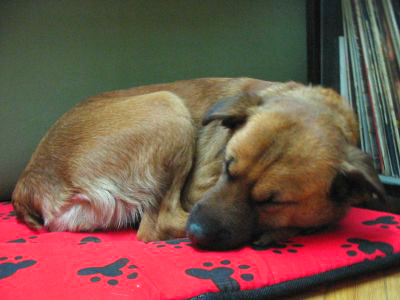dog: (11, 76, 392, 253)
